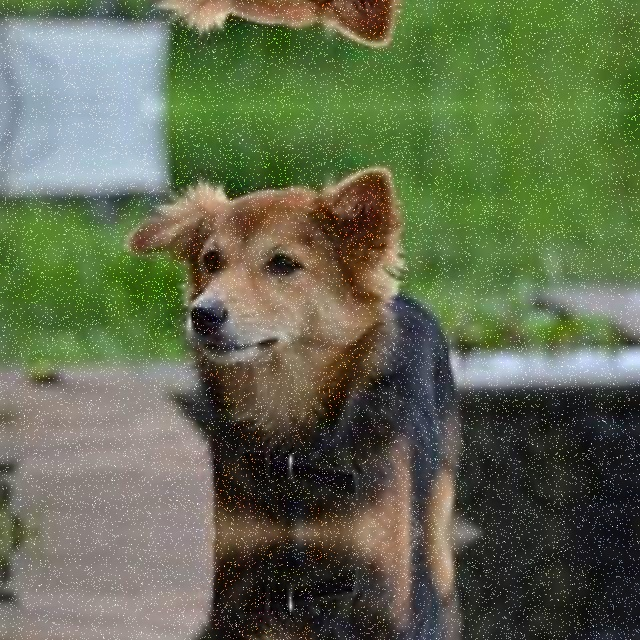dog: (120, 161, 474, 528), (120, 536, 474, 640), (120, 0, 474, 50)
